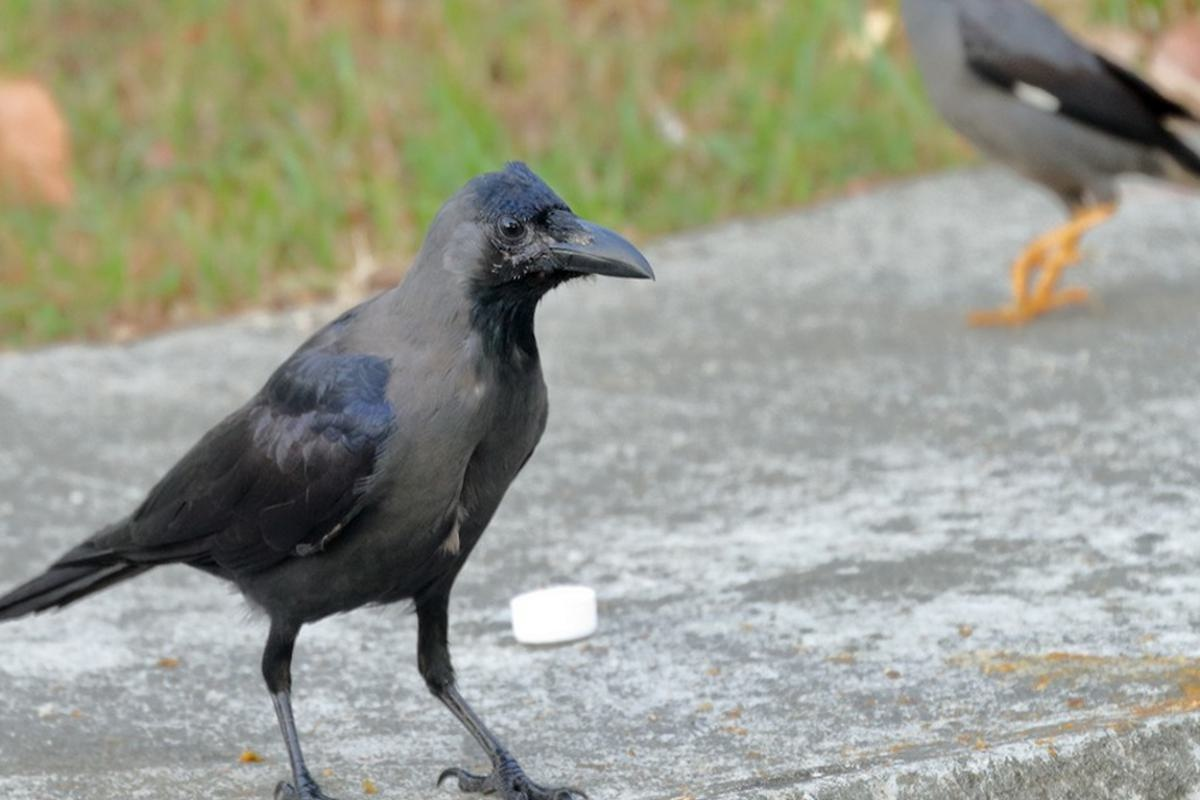crow: (1, 167, 660, 800)
